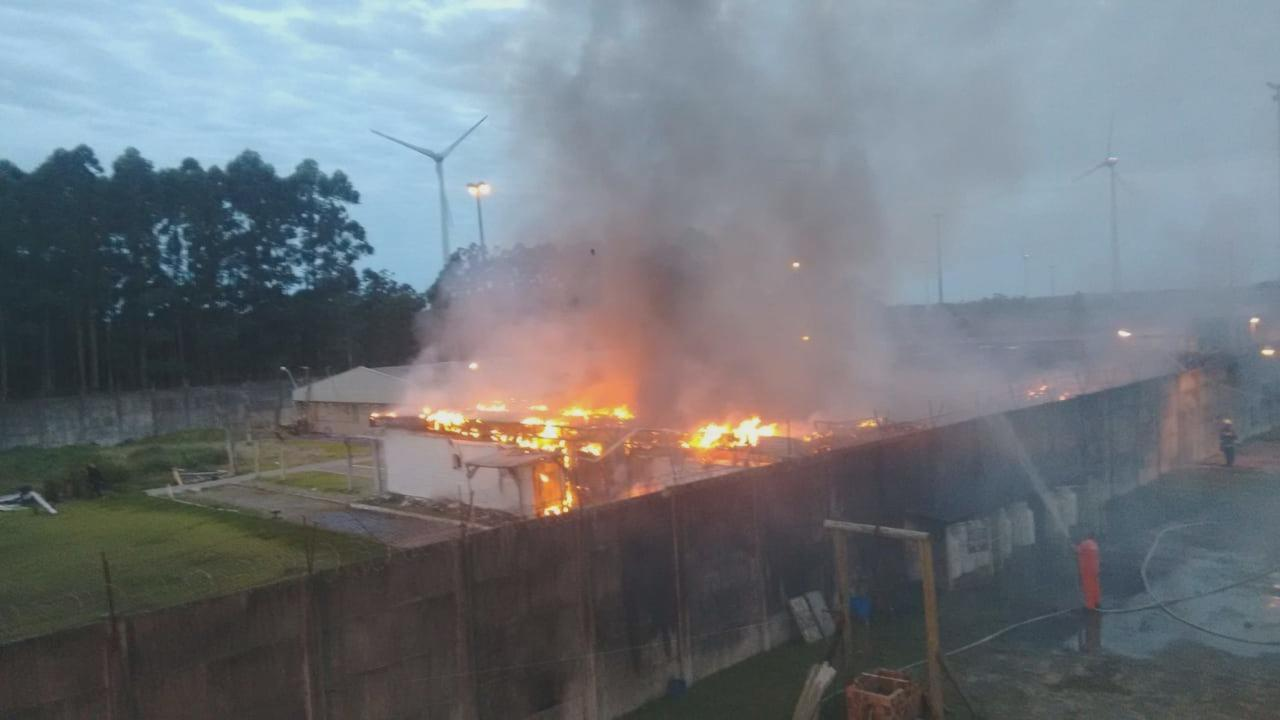fire: (491, 413, 572, 470), (686, 411, 782, 452), (419, 394, 469, 436), (536, 469, 575, 515), (564, 402, 631, 423), (852, 415, 886, 433), (475, 398, 508, 411), (1024, 382, 1048, 399), (802, 428, 826, 444), (578, 442, 605, 456), (528, 401, 546, 413)
